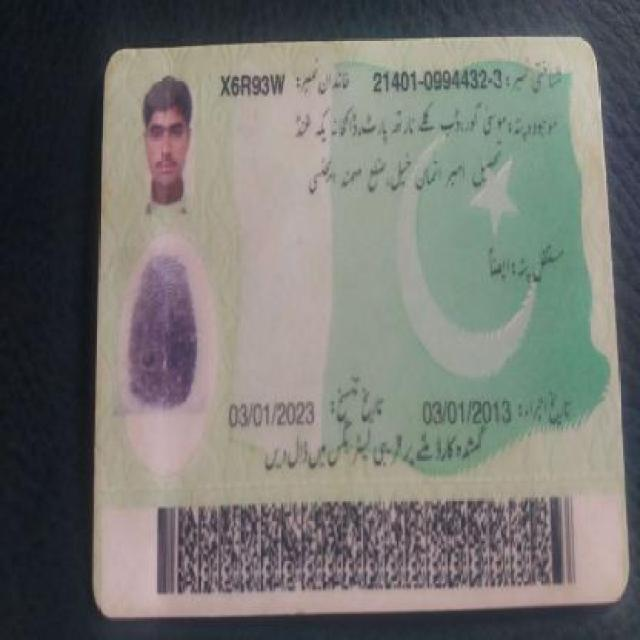Back: (91, 43, 617, 600)
